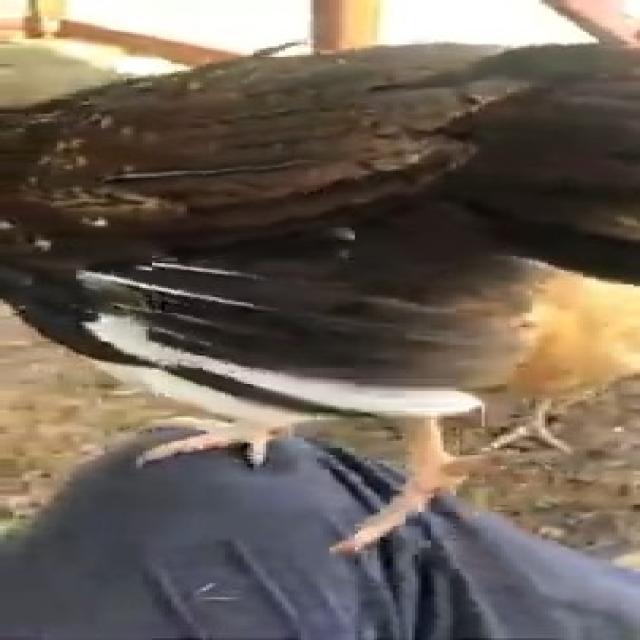leg stretching: (0, 0, 640, 512)
